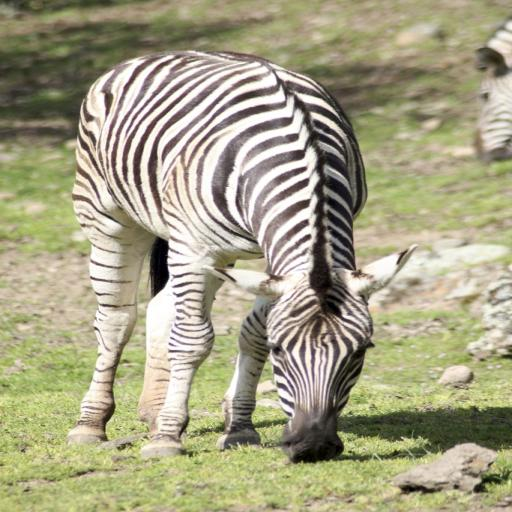Zebra: (64, 50, 415, 463)
